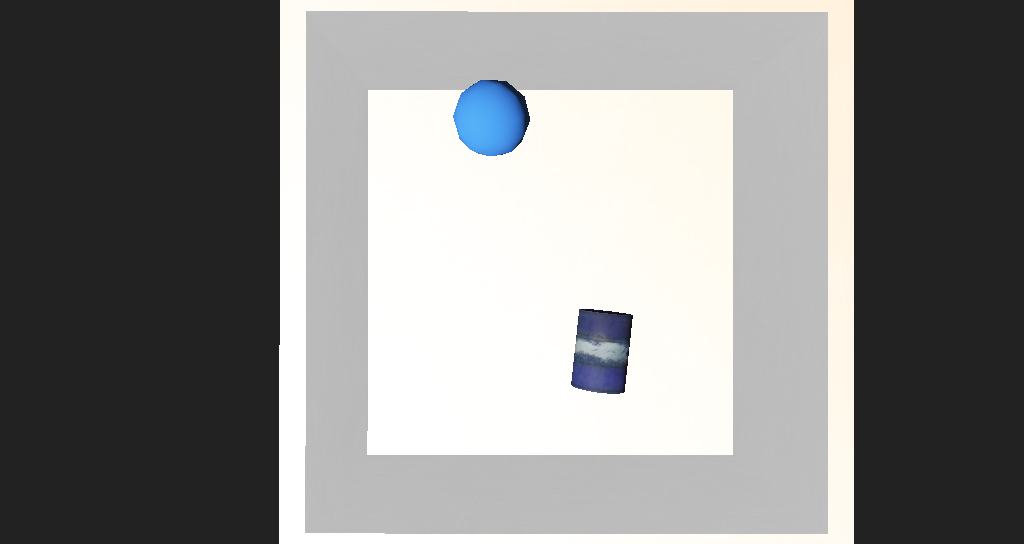cone: (519, 289, 573, 341)
cylinder: (525, 33, 593, 100)
sphere: (428, 160, 488, 203)
